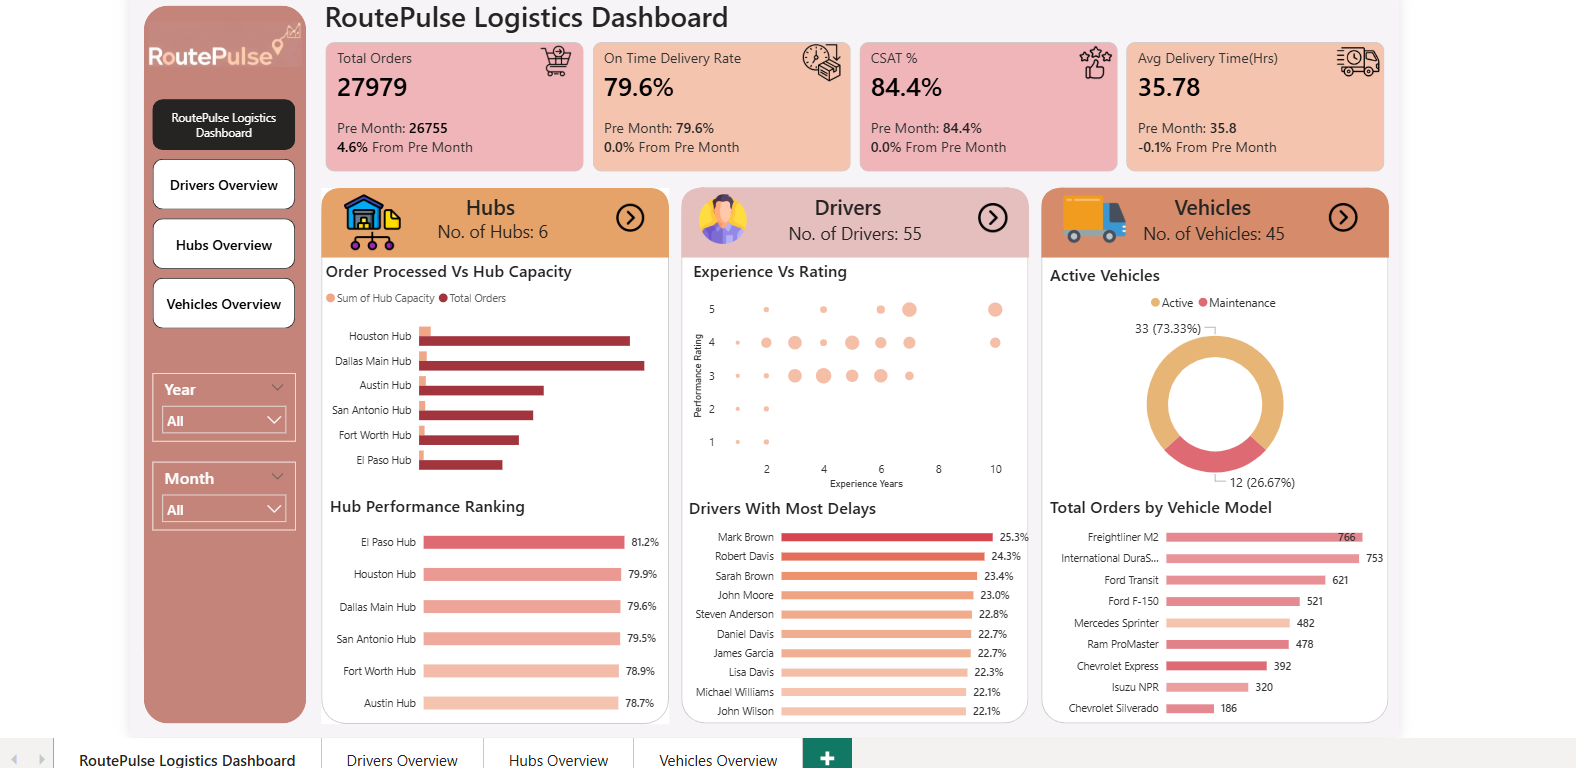

What the dashboard file says about the page in this screenshot:
{"tool":"powerbi","page":{"name":"RoutePulse Logistics Dashboard","canvas":[1450,850],"ordinal":0},"visuals":[{"type":"shape","box":[15.9,14.3,185.7,820.6],"z":0},{"type":"textbox","box":[217.6,0,525,58.8],"z":1000},{"type":"cardVisual","fields":{"Data":["Orders.Total Orders","Orders.On Time Delivery Rate","Orders.CSAT %","Orders.Avg Delivery Time(Hrs)"]},"box":[217.9,45.6,1220.6,163.8],"z":2000},{"type":"slicer","fields":{"Values":["Date Table.Year"]},"box":[25.6,434.4,163.8,78.3],"z":3000},{"type":"slicer","fields":{"Values":["Date Table.Month"]},"box":[25.6,535.5,163.8,78.3],"z":4000},{"type":"shape","box":[217.9,222.2,397.4,612.4],"z":5000},{"type":"shape","box":[217.9,222.2,397.4,79.8],"z":6000},{"type":"shape","box":[630,221.7,396.7,613.3],"z":7000},{"type":"shape","box":[1041.7,221.7,396.7,613.3],"z":8000},{"type":"textbox","box":[378.9,222.2,101.1,44.2],"z":9000},{"type":"card","fields":{"Values":["Hubs.No. of Hubs"]},"box":[347.5,246.4,139.6,55.5],"z":10000},{"type":"clusteredBarChart","title":"Order Processed Vs Hub Capacity ","fields":{"Category":["Hubs.HubName"],"Y":["Sum(Hubs.Hub Capacity)","Orders.Total Orders"]},"box":[217.9,304.8,397.4,257.8],"z":11000},{"type":"barChart","title":"Hub Performance Ranking","fields":{"Category":["Hubs.HubName"],"Y":["Orders.On Time Delivery Rate"]},"box":[227.9,572.6,377.4,262.1],"z":12000},{"type":"shape","box":[1041.1,222.2,397.4,79.8],"z":13000},{"type":"shape","box":[629.5,222.2,397.4,79.8],"z":14000},{"type":"card","fields":{"Values":["Vehicles.No. of Vehicles"]},"box":[1152.2,249.2,176.6,55.5],"z":15000},{"type":"card","fields":{"Values":["Drivers.No Of Drivers"]},"box":[740.6,249.2,176.6,55.5],"z":16000},{"type":"textbox","box":[1189.3,222.2,101.1,44.2],"z":17000},{"type":"textbox","box":[777.7,222.2,115.4,44.2],"z":18000},{"type":"scatterChart","title":"Experience Vs Rating","fields":{"X":["Drivers.Experience Years"],"Y":["Drivers.Performance Rating"],"Size":["Sum(Drivers.Experience Years)1"]},"box":[638.1,304.8,378.9,267.8],"z":19000},{"type":"barChart","title":"Drivers With Most Delays","fields":{"Category":["Drivers.DriverName"],"Y":["Orders.Delayed Delivery Rate"]},"box":[638.1,575.4,388.8,259.2],"z":20000},{"type":"donutChart","title":"Active Vehicles","fields":{"Category":["Vehicles.Vehicle Status"],"Y":["CountNonNull(Vehicles.Vehicle ID)"]},"box":[1051.1,309.1,377.4,263.5],"z":21000},{"type":"barChart","fields":{"Category":["Vehicles.Vehicle Model"],"Y":["Orders.Total Orders"]},"box":[1051.1,574,383.1,259.2],"z":22000},{"type":"image","box":[21.4,8.5,175.2,99.7],"z":23000},{"type":"image","box":[955.6,240.3,61.1,33.3],"z":24000},{"type":"image","box":[555.6,240.3,31.9,33.3],"z":25000},{"type":"image","box":[1355.9,240.7,61.2,32.8],"z":26000},{"type":"pageNavigator","box":[25.6,121.1,163.8,263.5],"z":26001},{"type":"image","box":[629.5,229.3,95.4,57],"z":26003},{"type":"image","box":[227.9,229.3,96.9,64.1],"z":26004},{"type":"image","box":[1051.1,222.2,101.1,71.2],"z":26005},{"type":"image","box":[457.2,58.4,59.8,38.5],"z":26006},{"type":"image","box":[753.4,58.4,75.5,42.7],"z":26007},{"type":"image","box":[1075.3,58.4,55.5,41.3],"z":26008},{"type":"image","box":[1373,54.1,61.2,48.4],"z":26009}]}

Visuals, with their boxes on the page's 1450x850 design canvas (x1, y1, x2, y2). These are canvas units, not pixel positions in the 1576x768 screenshot, which may show the page scaled, cropped or inside an application window:
shape: bbox(16, 14, 202, 835)
textbox: bbox(218, 0, 743, 59)
cardVisual - Orders.Total Orders x Orders.On Time Delivery Rate: bbox(218, 46, 1438, 209)
slicer - Date Table.Year: bbox(26, 434, 189, 513)
slicer - Date Table.Month: bbox(26, 536, 189, 614)
shape: bbox(218, 222, 615, 835)
shape: bbox(218, 222, 615, 302)
shape: bbox(630, 222, 1027, 835)
shape: bbox(1042, 222, 1438, 835)
textbox: bbox(379, 222, 480, 266)
card - Hubs.No. of Hubs: bbox(348, 246, 487, 302)
"Order Processed Vs Hub Capacity " clusteredBarChart: bbox(218, 305, 615, 563)
"Hub Performance Ranking" barChart: bbox(228, 573, 605, 835)
shape: bbox(1041, 222, 1438, 302)
shape: bbox(630, 222, 1027, 302)
card - Vehicles.No. of Vehicles: bbox(1152, 249, 1329, 305)
card - Drivers.No Of Drivers: bbox(741, 249, 917, 305)
textbox: bbox(1189, 222, 1290, 266)
textbox: bbox(778, 222, 893, 266)
"Experience Vs Rating" scatterChart: bbox(638, 305, 1017, 573)
"Drivers With Most Delays" barChart: bbox(638, 575, 1027, 835)
"Active Vehicles" donutChart: bbox(1051, 309, 1428, 573)
barChart - Vehicles.Vehicle Model x Orders.Total Orders: bbox(1051, 574, 1434, 833)
image: bbox(21, 8, 197, 108)
image: bbox(956, 240, 1017, 274)
image: bbox(556, 240, 588, 274)
image: bbox(1356, 241, 1417, 274)
pageNavigator: bbox(26, 121, 189, 385)
image: bbox(630, 229, 725, 286)
image: bbox(228, 229, 325, 293)
image: bbox(1051, 222, 1152, 293)
image: bbox(457, 58, 517, 97)
image: bbox(753, 58, 829, 101)
image: bbox(1075, 58, 1131, 100)
image: bbox(1373, 54, 1434, 102)
